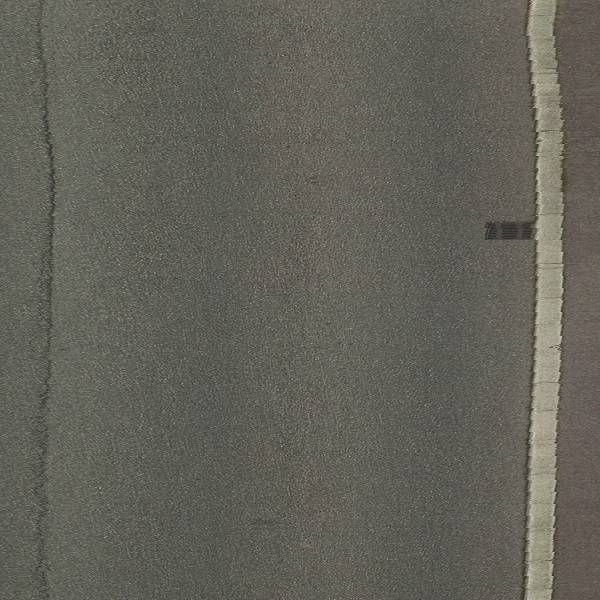road_damage: (32, 31, 62, 538)
